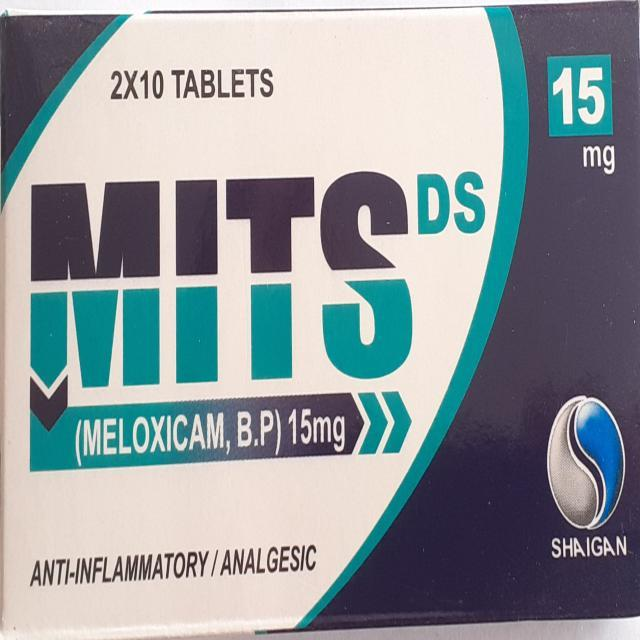drug-name: (18, 166, 516, 399)
